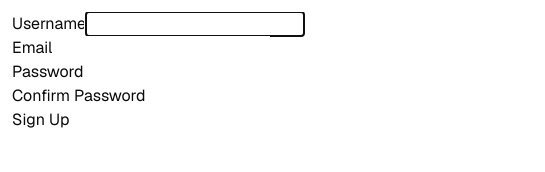
Test: SignUpForm Username Validation › shows error when username with invalid chars
Type "invalid user!" into the field labelled "Username" at [195, 24], box [86,12,304,36]
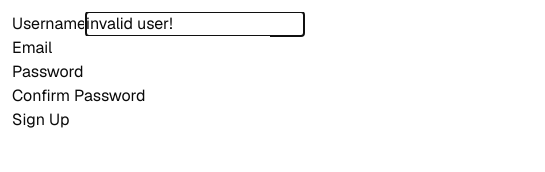
Type "user@example.com" into the field labelled "Email" at [161, 48], box [52,36,270,60]
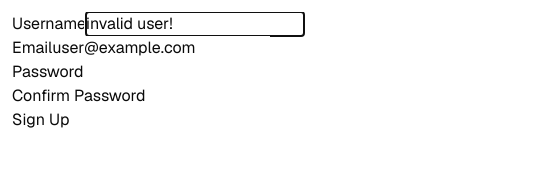
Type "ValidPass123!" into the password field labelled "Password" at [192, 72], box [84,60,302,84]
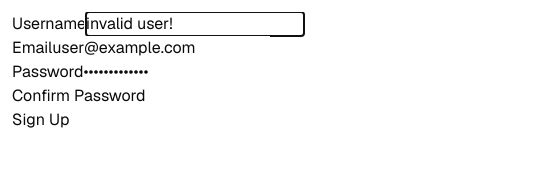
Type "ValidPass123!" into the password field labelled "Confirm Password" at [254, 96], box [146,84,364,108]
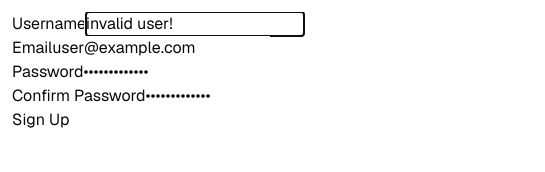
Click the button "Sign Up" at [41, 120], box [12,108,70,132]
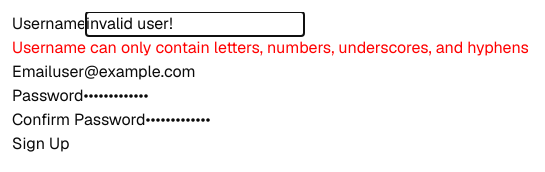
Result: the text with test id "username-error" reads "Username can only contain letters, numbers, underscores, and hyphens" at [12,37,529,58]
